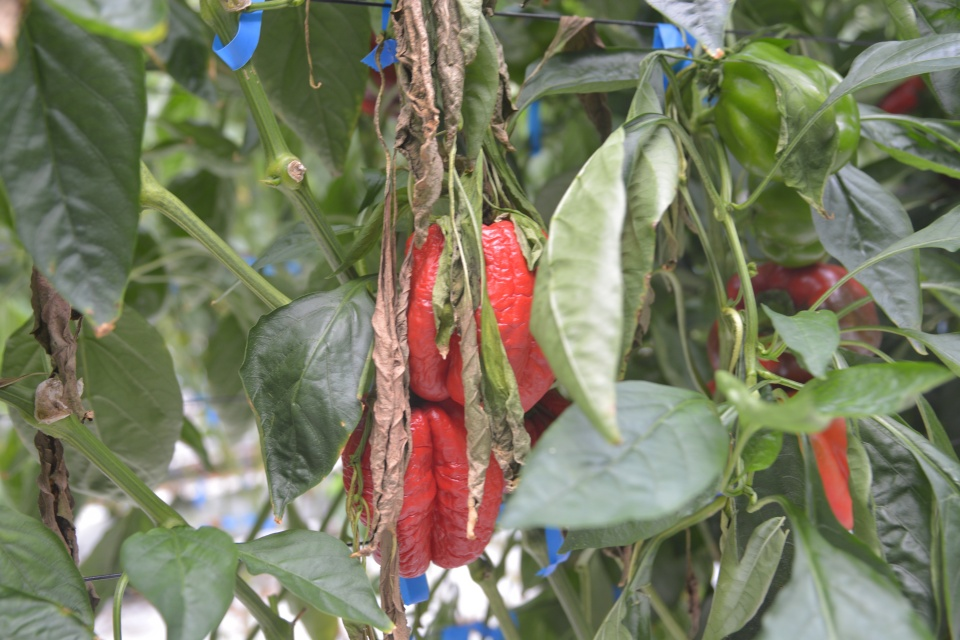fruit: (400, 215, 557, 413), (340, 395, 507, 578), (704, 261, 883, 389), (715, 40, 862, 189), (748, 170, 829, 269)
pedicle: (756, 288, 797, 318)
